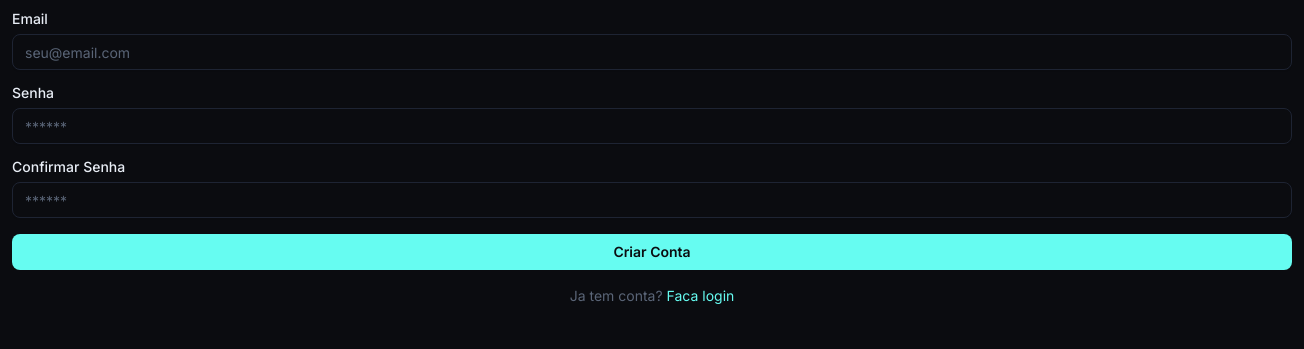
RegisterForm › shows error when passwords do not match
Type "test@example.com" into the field labelled "Email". click: (652, 52)
box: x1=12 y1=34 x2=1292 y2=70
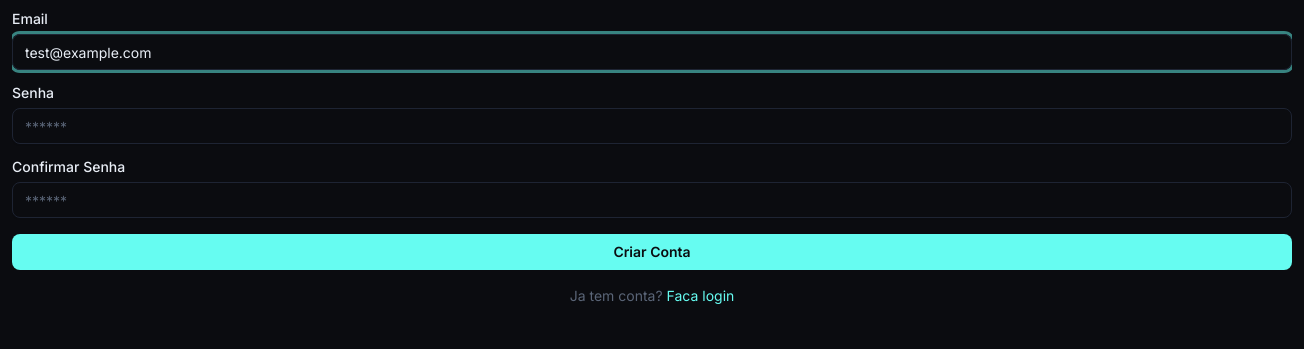
Type "password123" into the password field labelled "Senha". click: (652, 126)
box: x1=12 y1=108 x2=1292 y2=144
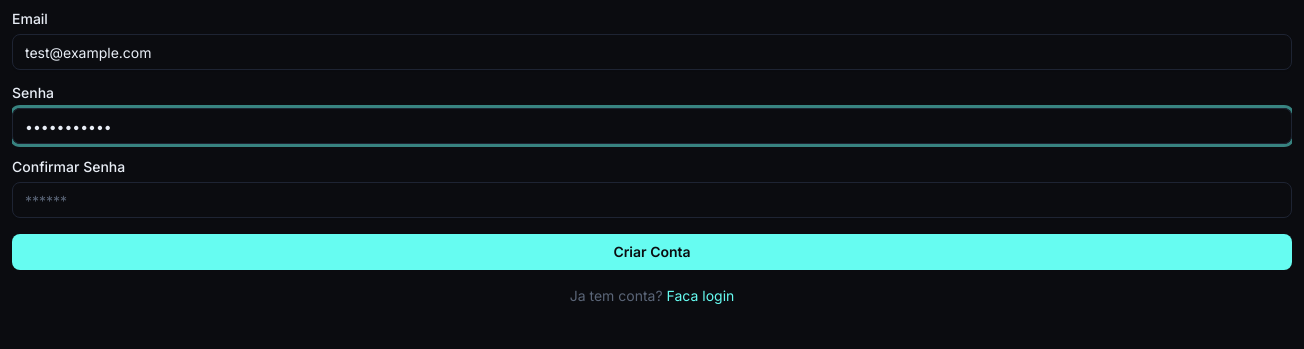
Type "different456" into the password field labelled "Confirmar Senha". click: (652, 200)
box: x1=12 y1=182 x2=1292 y2=218
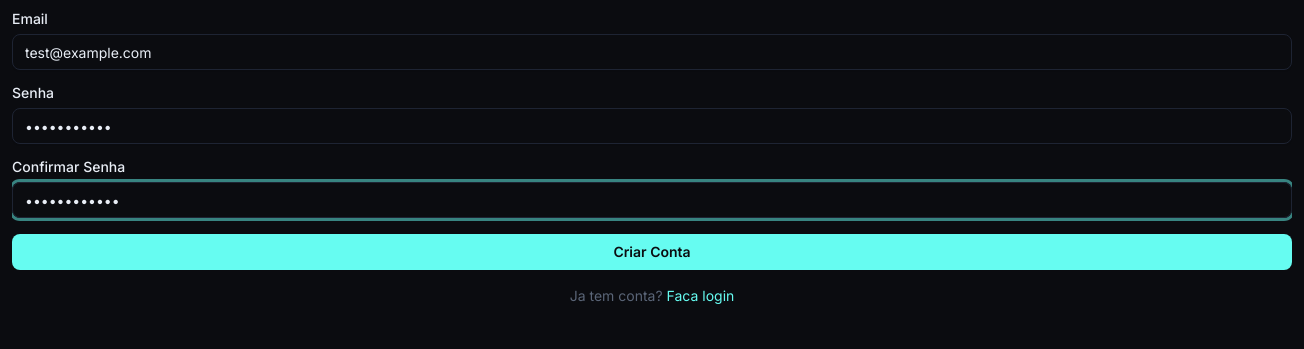
Click the button "Criar Conta". click: (652, 252)
box: x1=12 y1=234 x2=1292 y2=270
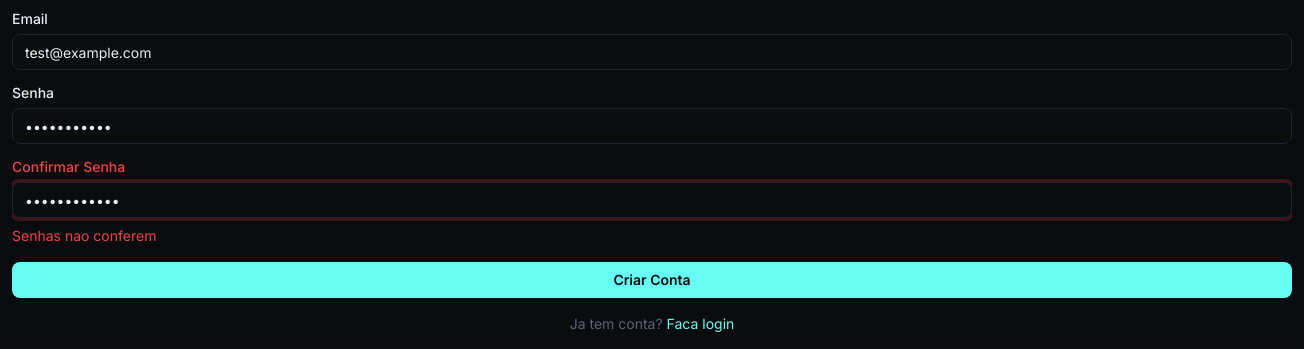
Now the text "Senhas nao conferem" is shown, box x1=12 y1=227 x2=156 y2=244
